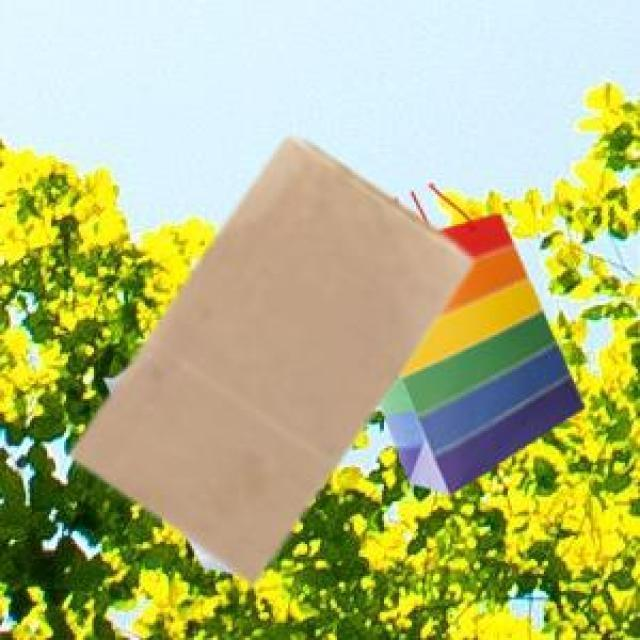paper: (68, 134, 465, 578), (376, 211, 580, 491)
